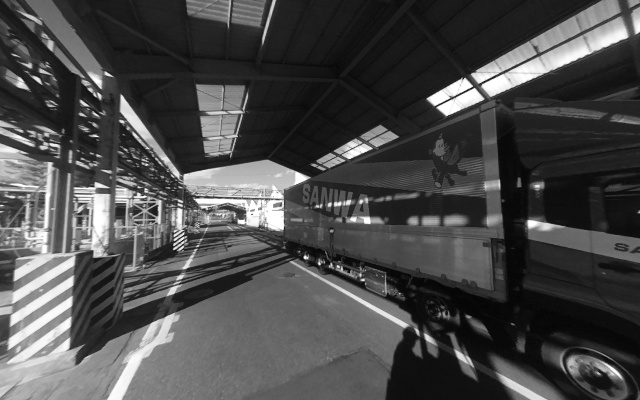bollard: (7, 253, 91, 352), (82, 254, 126, 335), (171, 230, 187, 252)
